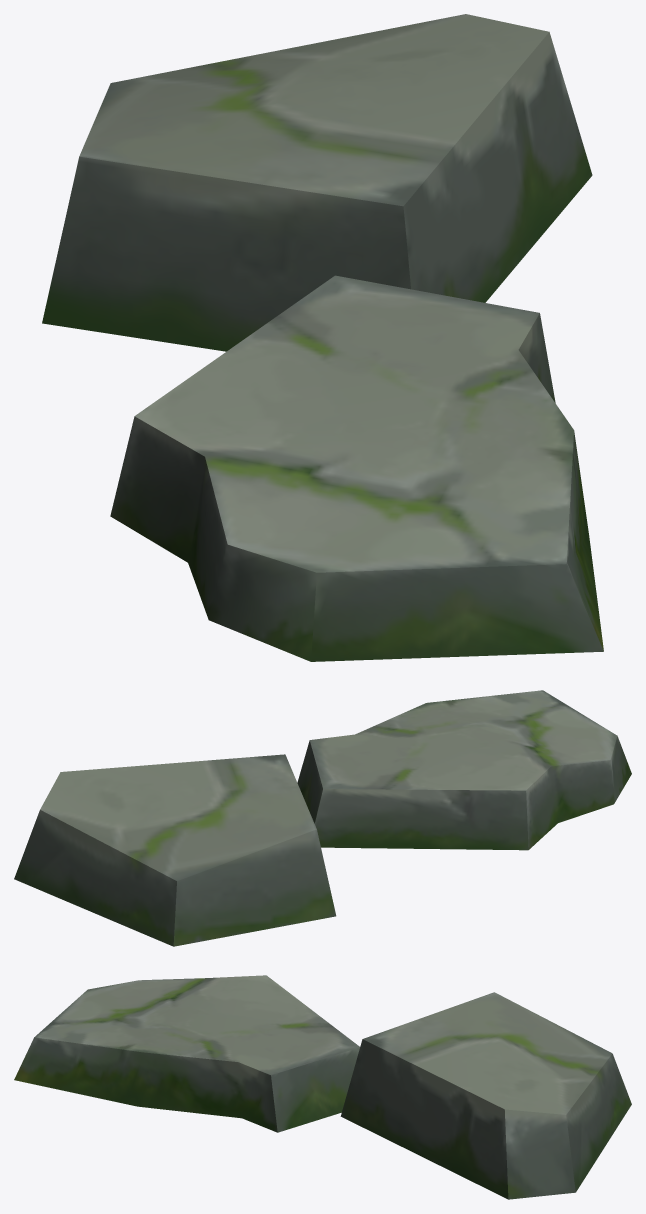
Rendered from scene_lawennushandao_stone01a.FBX.
3 renders of one model, top to bottom at view 1: azimuth 30°, elevation 25°; view 2: azimuth 150°, elevation 25°; view 3: azimuth 270°, elevation 25°, orthographic. The views are drawn at different scales.
Parts seen in each view (by area): view 1: scene_lawennushandao_stone01a; view 2: scene_lawennushandao_stone01a; view 3: scene_lawennushandao_stone01a.
Boxes of the visible parts, x1,y1,x2,y2 form: scene_lawennushandao_stone01a: (42, 14, 603, 661); scene_lawennushandao_stone01a: (14, 690, 631, 946); scene_lawennushandao_stone01a: (14, 975, 631, 1199).
Size of the model in its own units: 93.36 by 18.83 by 134.
